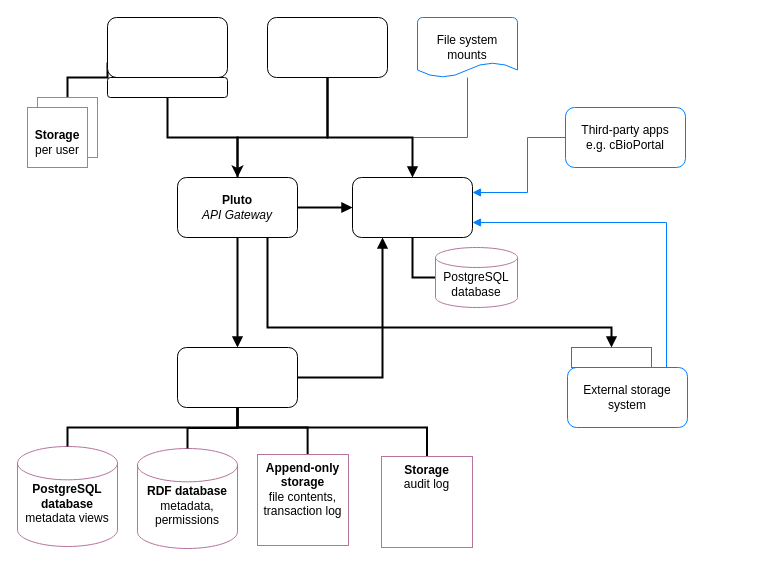
The diagram is 775 pixels wide and 566 high, and some of its shapes have lost their labels. Here are the shapes that lost their labels. From the top down, the centre of each, then its label:
(167,47): Jupyter Notebooks Analysis environment
(327,47): Mercury Web front-end
(167,87): Proxy
(412,207): Keycloak IAM
(237,377): Saturn Data repository and catalog
(611,357): WebDAV API
